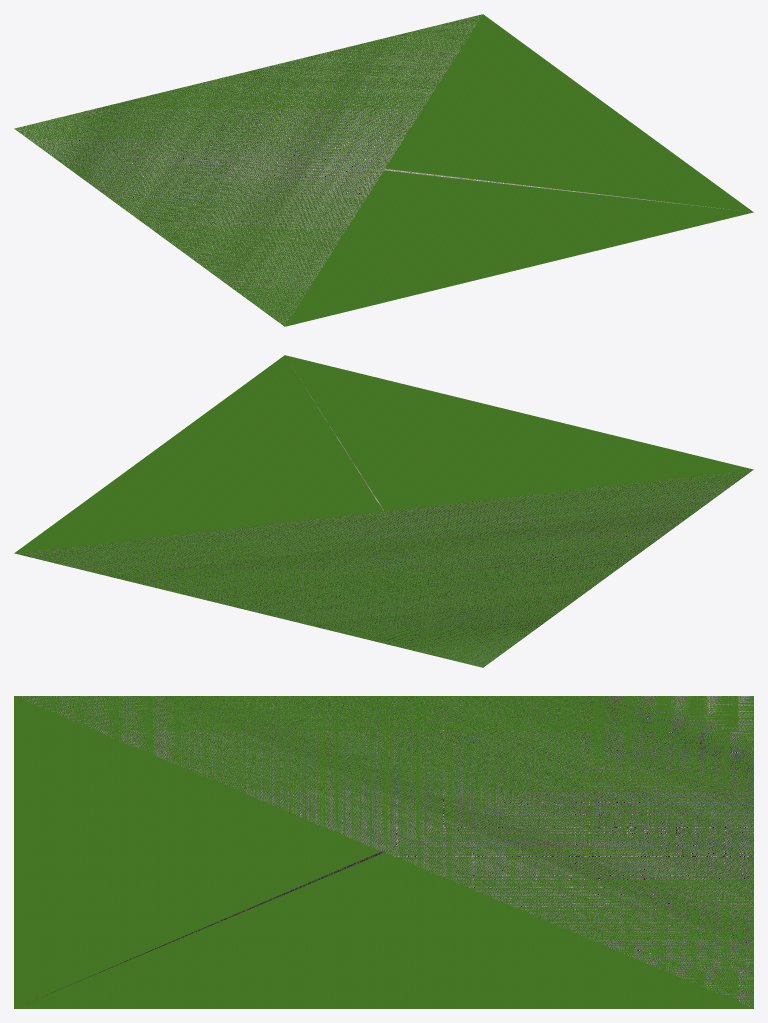
Rendered from frame1.obj.
3 views of the same model, one above another, from view 1: azimuth 30°, elevation 25°; view 2: azimuth 150°, elevation 25°; view 3: azimuth 270°, elevation 25° (orthographic). The views are drawn at different scales.
Parts seen in each view (by area): view 1: ground, Cube; view 2: ground, Cube; view 3: ground, Cube.
Boxes of the visible parts, left/top/right/bottom form: ground: left=14, top=14, right=753, bottom=326; Cube: left=15, top=14, right=743, bottom=325; ground: left=14, top=355, right=753, bottom=667; Cube: left=16, top=376, right=752, bottom=667; ground: left=14, top=696, right=753, bottom=1008; Cube: left=16, top=696, right=753, bottom=1006.
Size of the model in its own units: 2000 by 72.61 by 2000.
